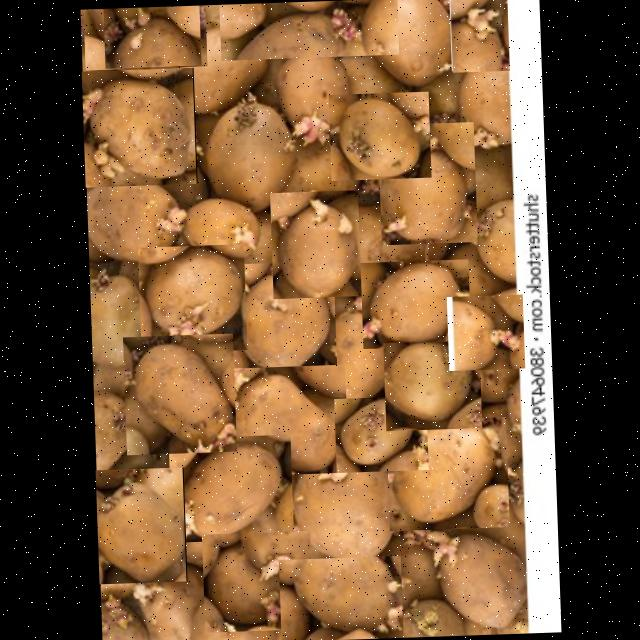Sprouted potato: (264, 430, 402, 580), (214, 364, 348, 476), (196, 86, 304, 220), (386, 416, 510, 530), (81, 66, 197, 186), (122, 332, 236, 454), (168, 432, 294, 542), (227, 260, 337, 378), (378, 120, 478, 244), (151, 15, 269, 120), (137, 242, 247, 352), (202, 530, 312, 632), (425, 524, 527, 634), (95, 466, 187, 583), (278, 554, 403, 640), (219, 0, 399, 59), (270, 188, 362, 298), (268, 44, 355, 160), (360, 258, 471, 348), (351, 0, 461, 90), (85, 176, 186, 272), (328, 90, 431, 180), (314, 309, 399, 417), (163, 195, 273, 278), (383, 338, 482, 429), (83, 5, 207, 69), (334, 394, 428, 472), (450, 190, 522, 286), (453, 40, 510, 158), (103, 4, 201, 67), (446, 292, 525, 370), (448, 0, 509, 71)
